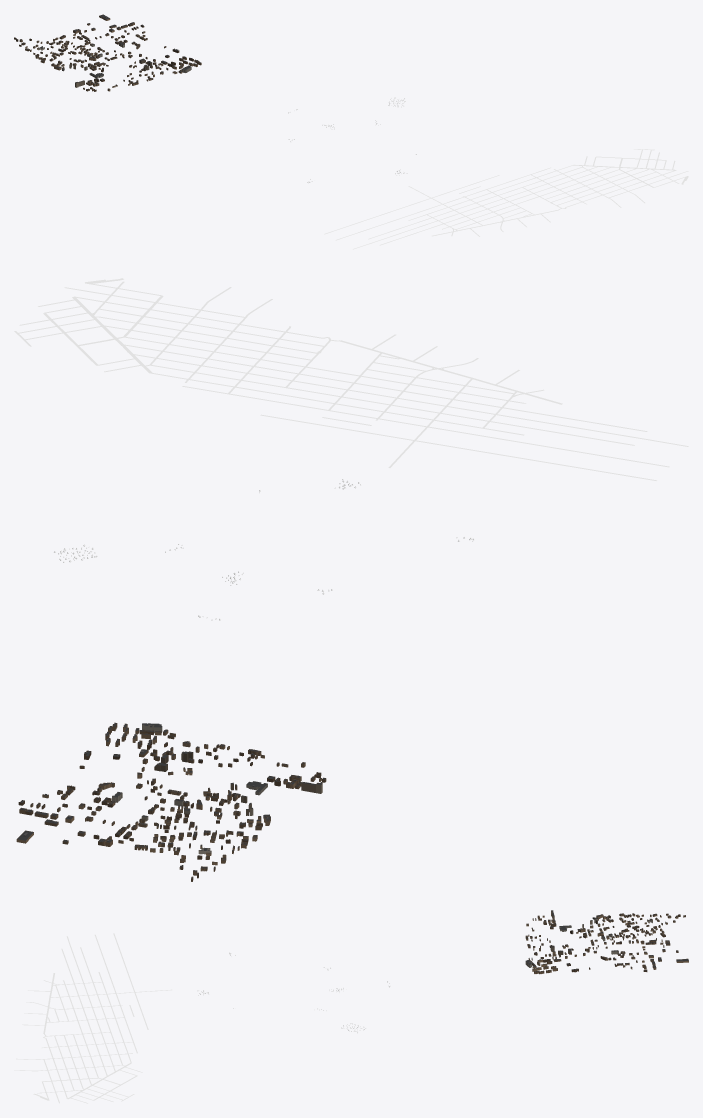
Rendered from manhattan_+01_-05.glb.
3 views of the same model, one above another, from view 1: azimuth 30°, elevation 25°; view 2: azimuth 150°, elevation 25°; view 3: azimuth 270°, elevation 25° (orthographic). The views are drawn at different scales.
Visible parts, largest first — view 1: ROAD_+01_-05, BLD_lowrise_+01_-05; view 2: ROAD_+01_-05, BLD_lowrise_+01_-05, BLD_midrise_+01_-05; view 3: ROAD_+01_-05, BLD_lowrise_+01_-05.
Part boxes in pixels (x1,y1,x2,y2): ROAD_+01_-05: (324, 149, 688, 249); BLD_lowrise_+01_-05: (14, 14, 201, 91); ROAD_+01_-05: (14, 278, 688, 480); BLD_lowrise_+01_-05: (16, 722, 326, 881); BLD_midrise_+01_-05: (112, 723, 322, 815); ROAD_+01_-05: (14, 933, 171, 1103); BLD_lowrise_+01_-05: (525, 913, 688, 974).
Bounding box in the file's own units: 3867 × 51.23 × 5847.
